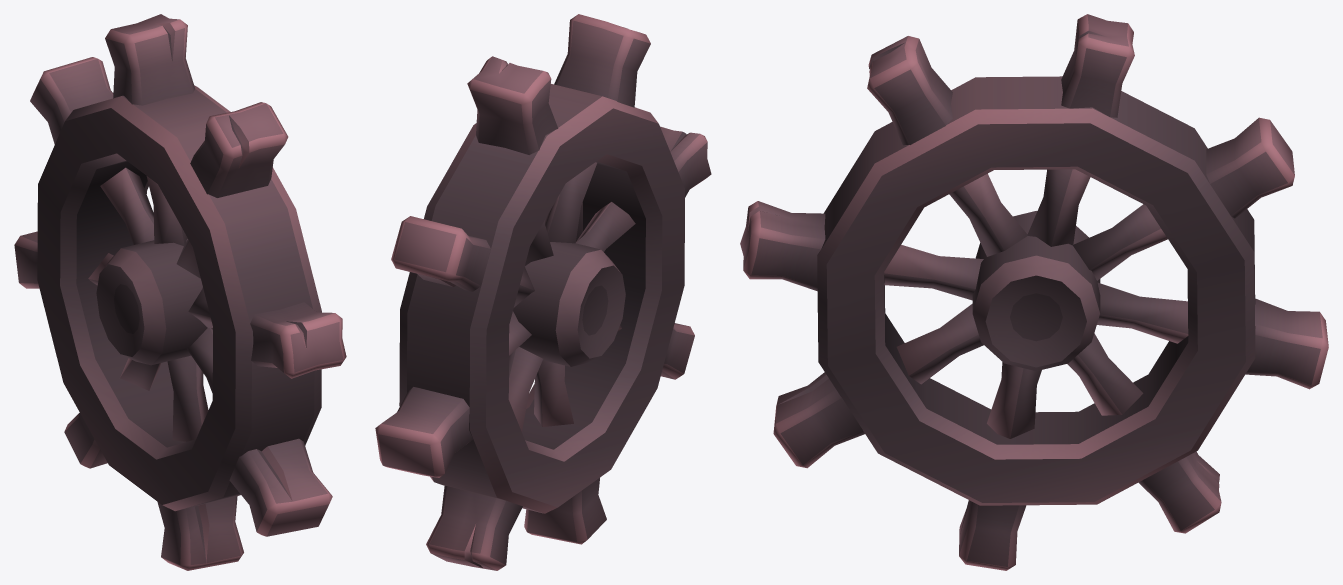
The model's file is undead_gear_small.fbx.
3 views of the same model, side by side, from view 1: azimuth 30°, elevation 25°; view 2: azimuth 150°, elevation 25°; view 3: azimuth 270°, elevation 25° (orthographic). The views are drawn at different scales.
Visible parts, largest first — view 1: undead_gear_small; view 2: undead_gear_small; view 3: undead_gear_small.
Part boxes in pixels (x1,y1,x2,y2): undead_gear_small: [14, 14, 346, 570]; undead_gear_small: [375, 14, 711, 570]; undead_gear_small: [740, 14, 1328, 570].
Size of the model in its own units: 1.1 by 4.49 by 4.49.
